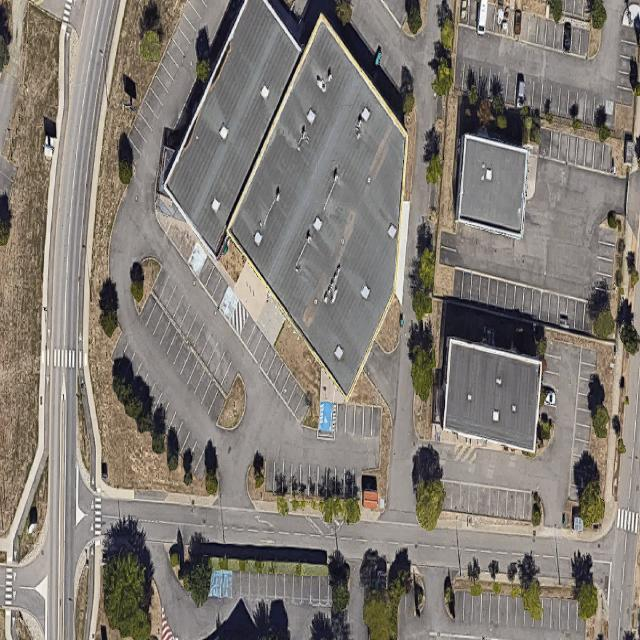immeuble: (187, 13, 477, 397), (145, 0, 314, 249), (439, 339, 544, 450), (452, 133, 531, 238)
